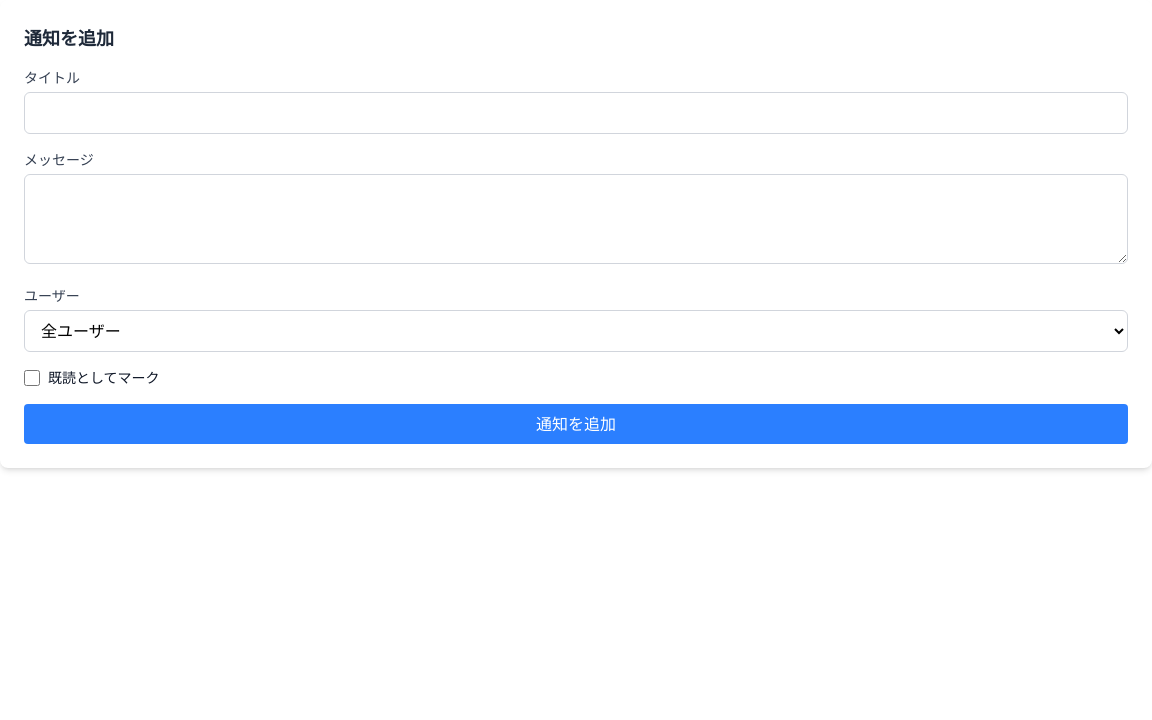
NotificationForm Component › should handle form submission error
# Fill the form
Step 1. Type "Test Title" into the field labelled "タイトル" → (576, 113), box [24,92,1128,134]
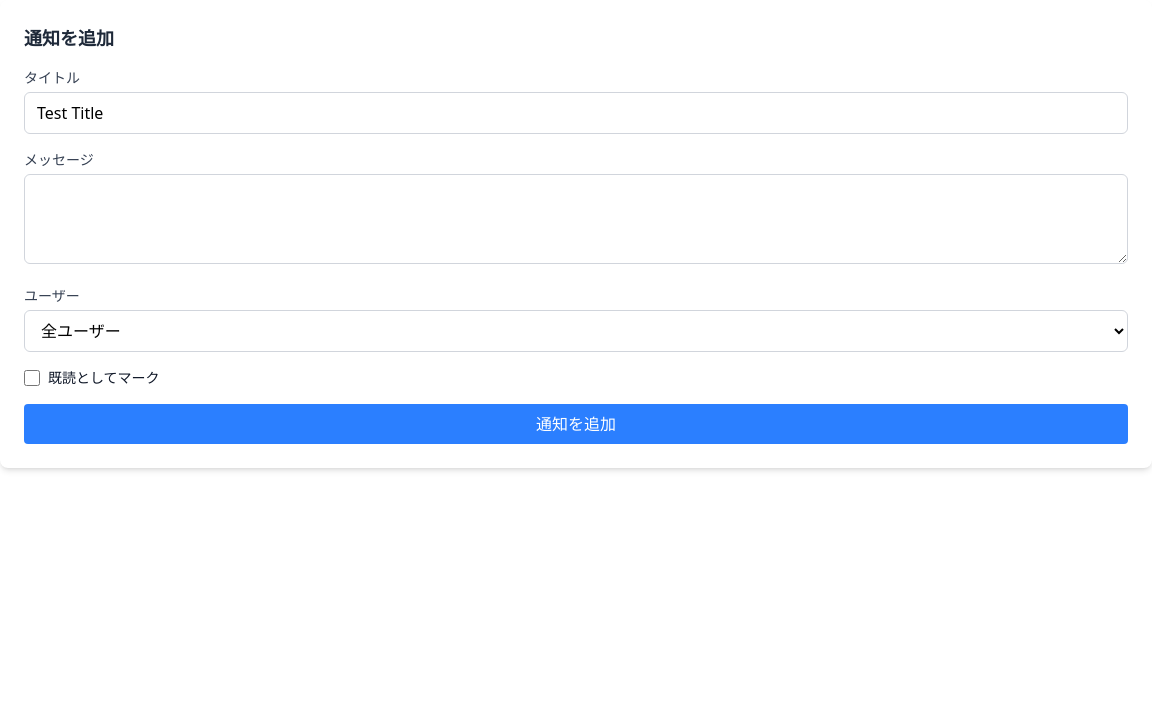
Step 2. Type "Test Message" into the text box labelled "メッセージ" → (576, 219), box [24,174,1128,264]
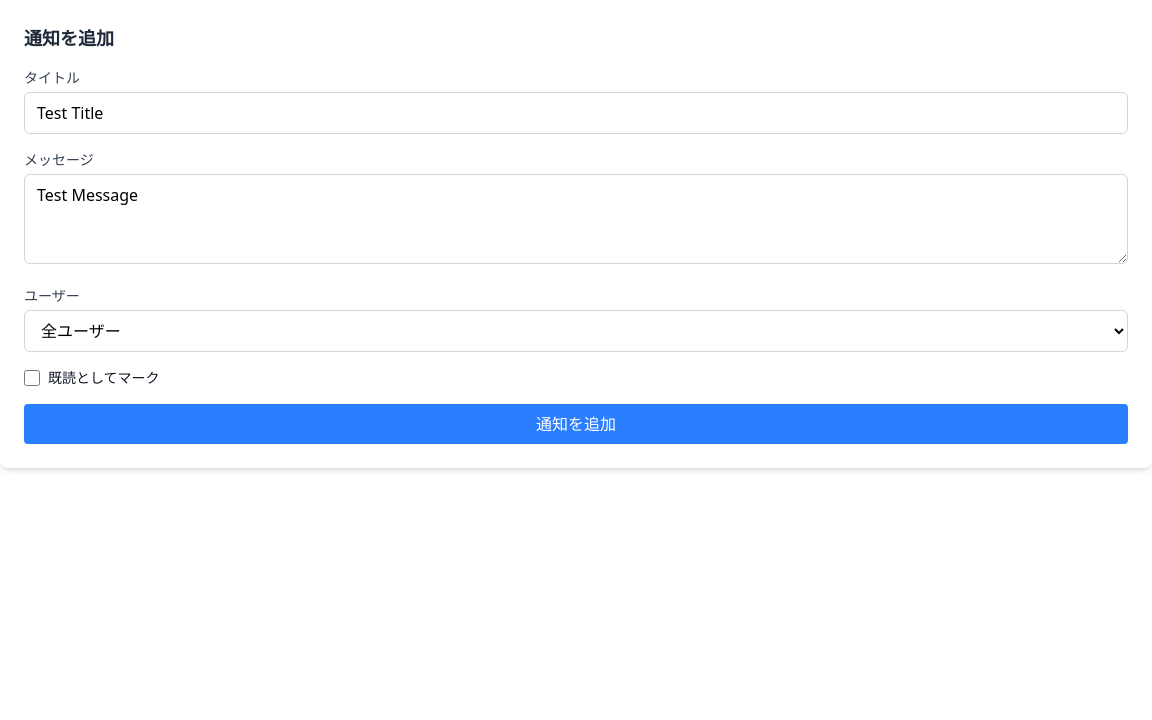
# Submit the form
Step 3. Click the button "通知を追加" → (576, 424), box [24,404,1128,444]
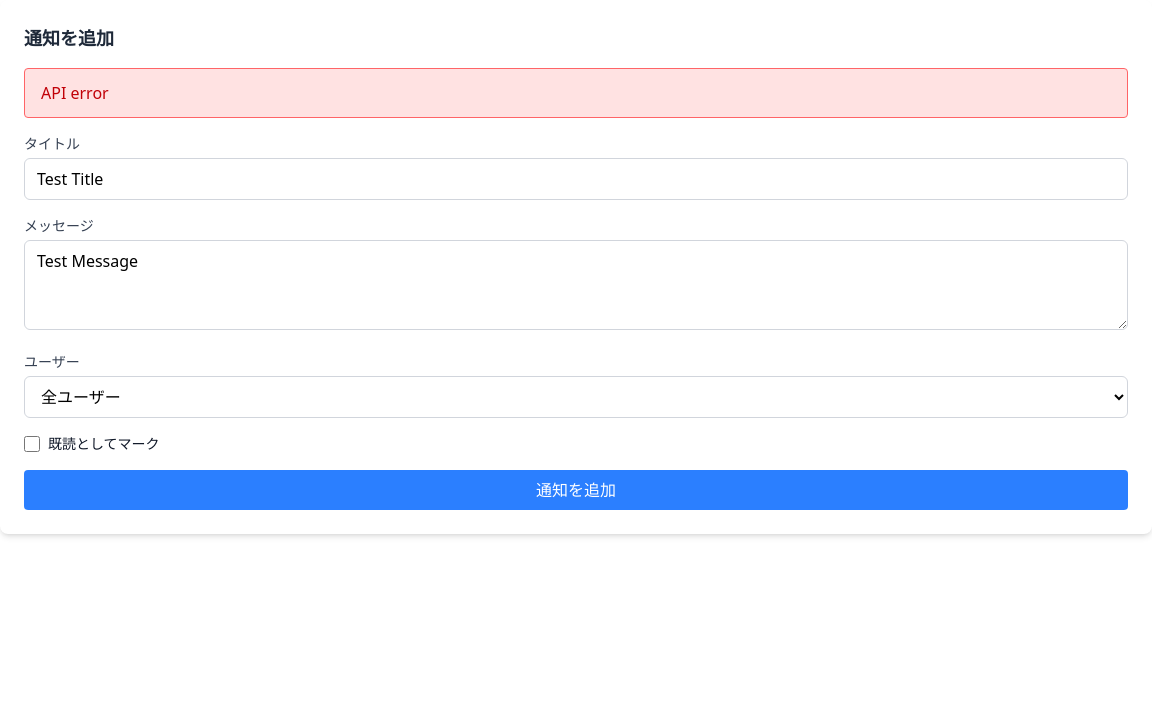
Expected: the text "API error" is shown, [24,68,1128,118]
